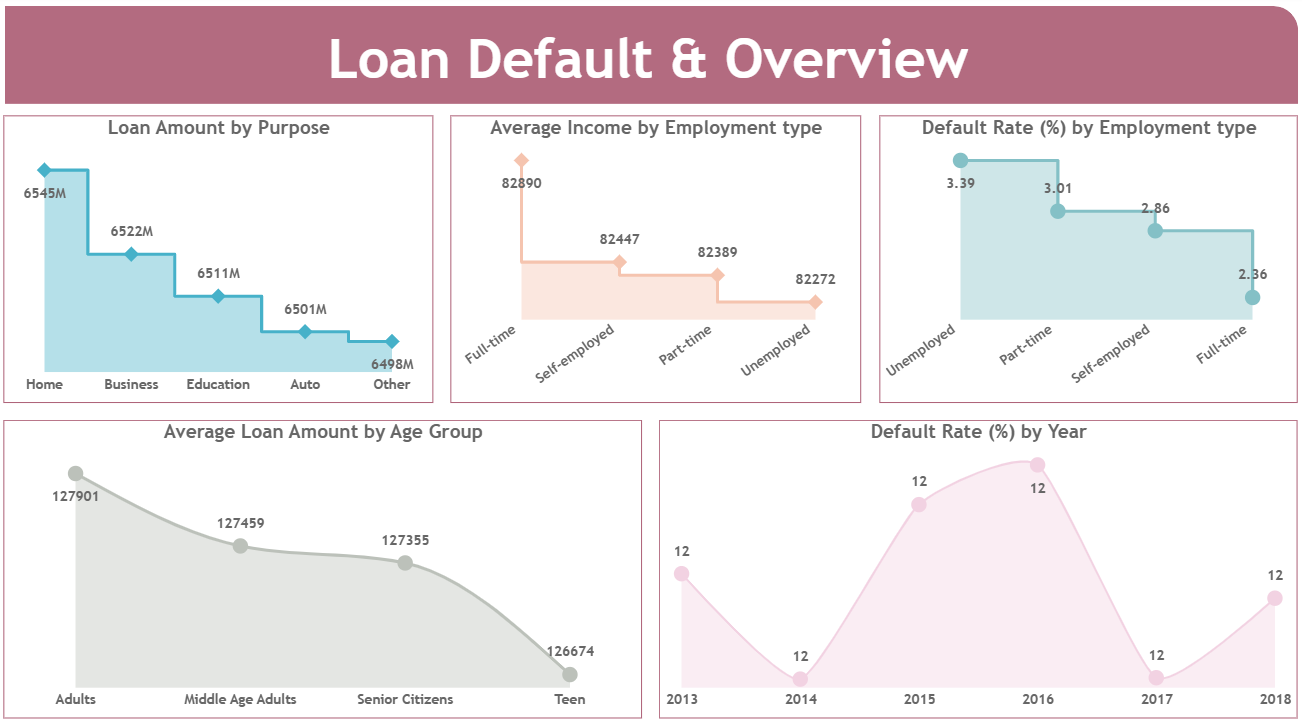

The dashboard page shown, as its layout file describes it:
{"tool":"powerbi","page":{"name":"Loan Default & Overview","canvas":[1280,720],"ordinal":0},"visuals":[{"type":"shape","box":[8.1,11.3,1260,95.6],"z":0},{"type":"lineChart","title":"Loan Amount by Purpose","fields":{"Y":["Measures Table1.Loan Amount by Purpose"],"Category":["Loan_default.LoanPurpose"]},"box":[7.8,118.2,418.4,280],"z":1000},{"type":"lineChart","title":"Average Income by Employment type","fields":{"Y":["Measures Table1.Average Income by Employment type"],"Category":["Loan_default.EmploymentType"]},"box":[443.3,118.2,399.7,280],"z":2000},{"type":"lineChart","title":"Default Rate (%) by Employment type","fields":{"Y":["Measures Table1.Default Rate by Employment type"],"Category":["Loan_default.EmploymentType"]},"box":[860.1,118.2,407.5,280],"z":3000},{"type":"lineChart","title":"Average Loan Amount by Age Group","fields":{"Y":["Measures Table1.Average Loan by Age Group"],"Category":["Loan_default.Age Groups"]},"box":[7.8,415.3,622.1,290.8],"z":4000},{"type":"lineChart","title":"Default Rate (%) by Year","fields":{"Y":["Measures Table1.Default Rate by Year"],"Category":["Loan_default.Year"]},"box":[645.4,415.3,622.1,290.8],"z":5000}]}

Visuals, with their boxes in screenshot pixels (x1, y1, x2, y2), scaled from the page's 1280x720 canvas onto the 1302x722 screenshot:
shape: locate(8, 11, 1290, 107)
"Loan Amount by Purpose" lineChart: locate(8, 119, 434, 399)
"Average Income by Employment type" lineChart: locate(451, 119, 857, 399)
"Default Rate (%) by Employment type" lineChart: locate(875, 119, 1289, 399)
"Average Loan Amount by Age Group" lineChart: locate(8, 416, 641, 708)
"Default Rate (%) by Year" lineChart: locate(656, 416, 1289, 708)
